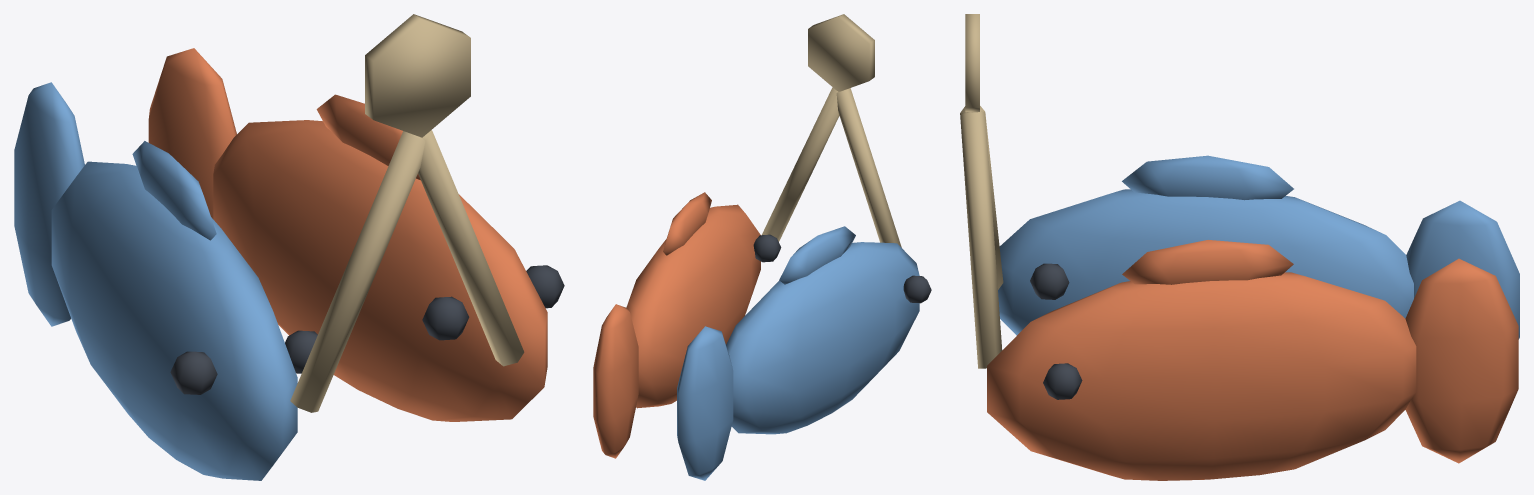
File: item_fish.glb
3 renders of one model, left to right at view 1: azimuth 30°, elevation 25°; view 2: azimuth 150°, elevation 25°; view 3: azimuth 270°, elevation 25°, orthographic. The views are drawn at different scales.
Visible parts, largest first — view 1: item_fish; view 2: item_fish; view 3: item_fish.
Part boxes in pixels (<box>): item_fish: <box>14,14,564,480</box>; item_fish: <box>593,14,931,480</box>; item_fish: <box>960,14,1519,480</box>.
Bounding box in the file's own units: 0.2065 × 0.2582 × 0.3093.
